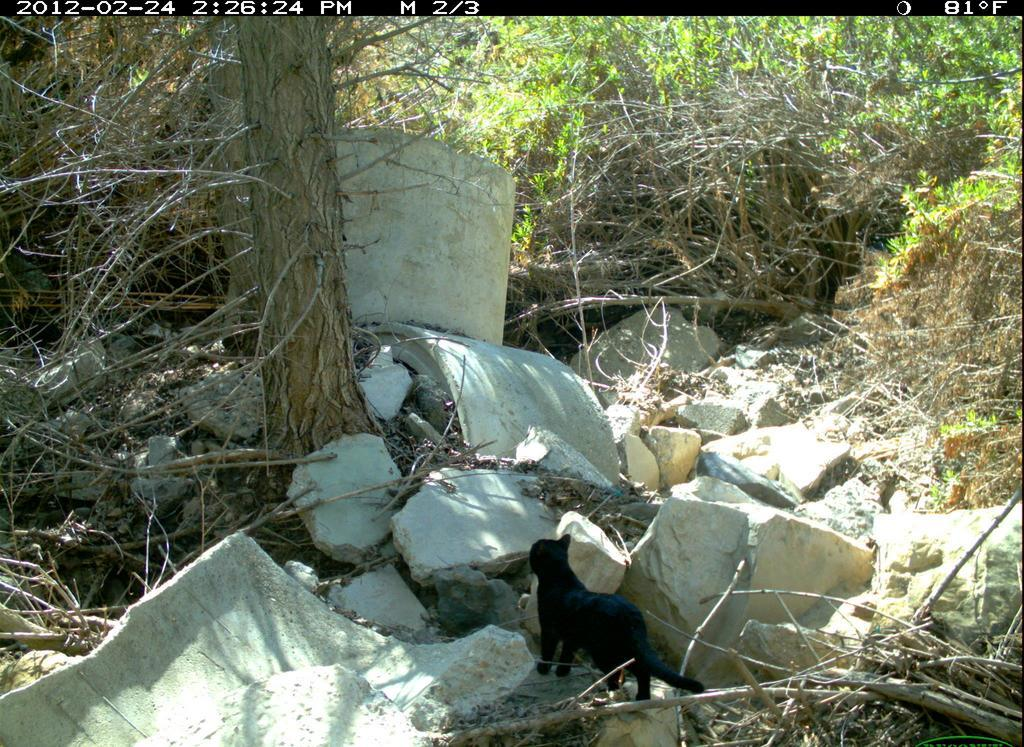cat: (516, 520, 713, 722)
